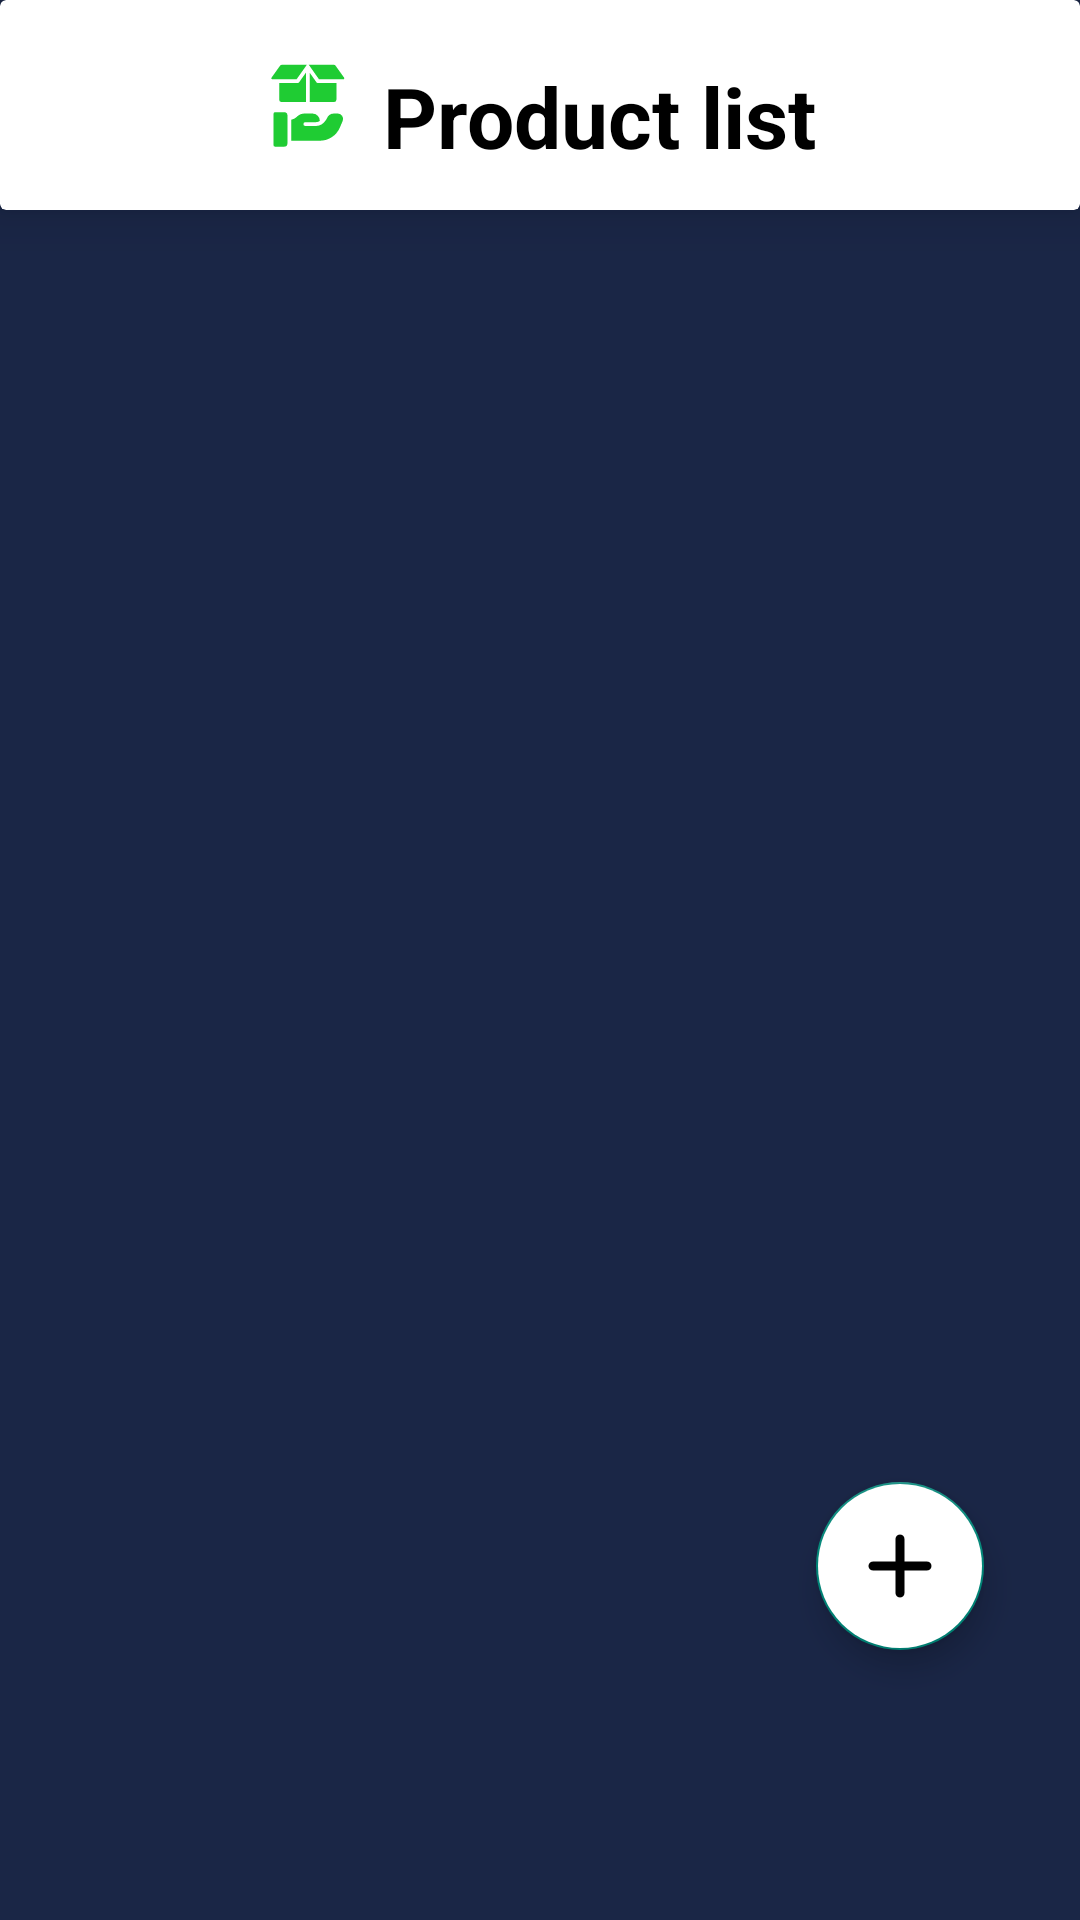

Point at icon controls on the screen. Image size 1080x1920, points as point (x, y).
add plus: point (900, 1566)
